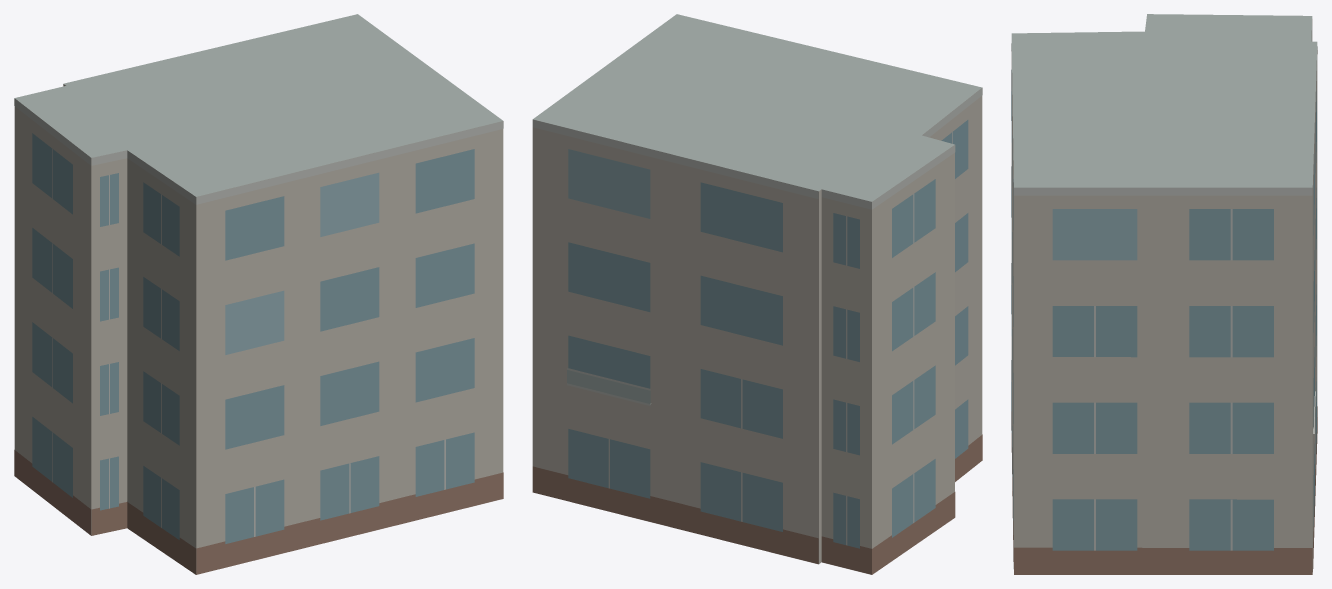
File: survey-upis-32987362.glb
3 views of the same model, side by side, from view 1: azimuth 30°, elevation 25°; view 2: azimuth 150°, elevation 25°; view 3: azimuth 270°, elevation 25° (orthographic). The views are drawn at different scales.
Parts seen in each view (by area): view 1: survey-upis-32987362.tmp; view 2: survey-upis-32987362.tmp; view 3: survey-upis-32987362.tmp.
Boxes of the visible parts, x1,y1,x2,y2 form: survey-upis-32987362.tmp: (14, 14, 503, 574); survey-upis-32987362.tmp: (532, 14, 982, 574); survey-upis-32987362.tmp: (1011, 14, 1317, 574).
Size of the model in its own units: 11.17 by 11.6 by 8.32.
